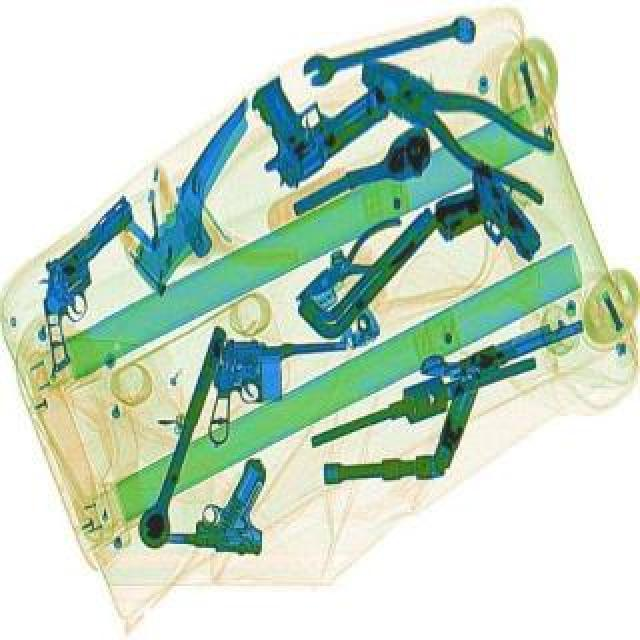gun: (0, 196, 188, 360), (218, 32, 398, 192), (418, 160, 550, 288), (206, 334, 350, 446), (412, 302, 556, 394), (156, 450, 268, 552)
scissors: (296, 8, 480, 88)
wrench: (346, 38, 578, 206), (282, 212, 422, 318)
